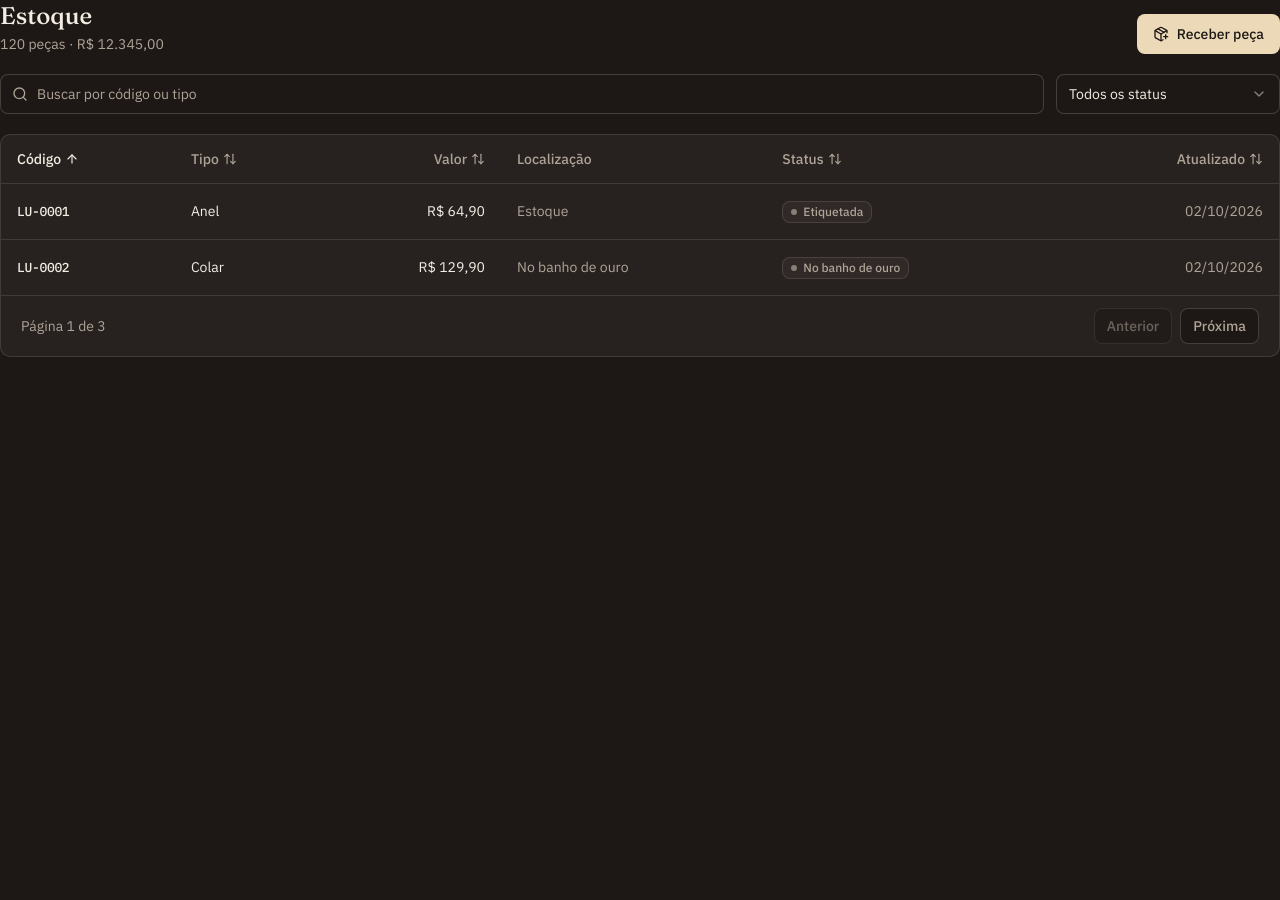
Test: inventory screen › shows the piece detail with the photo and the timeline in stable order
The width and height of the screenshot is (1280, 900).
Click the button with aria-label "Ver peça LU-0001" at (43, 211), box [17, 200, 69, 222]
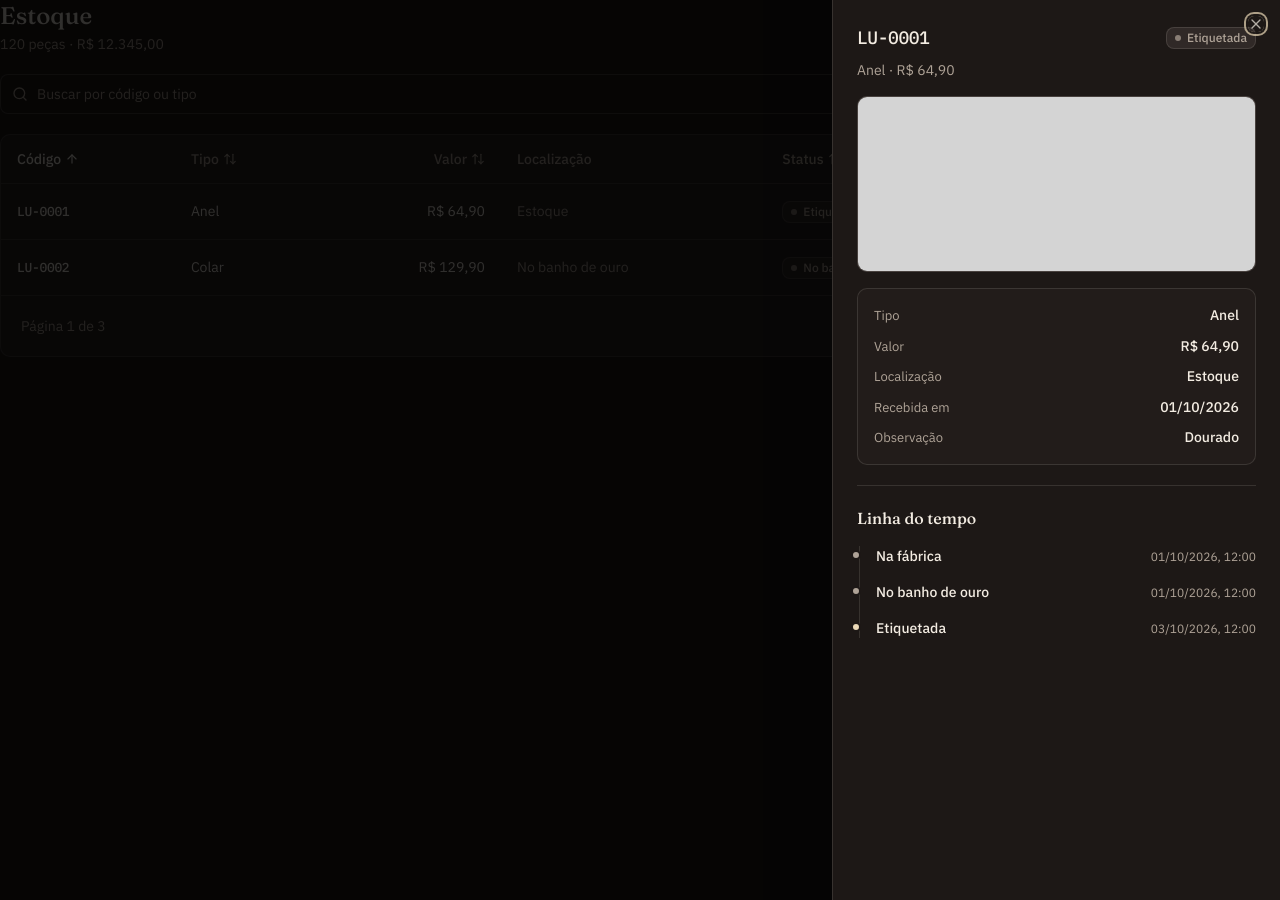
Expected: the text "Dourado" is shown, [1184, 427, 1239, 447]
